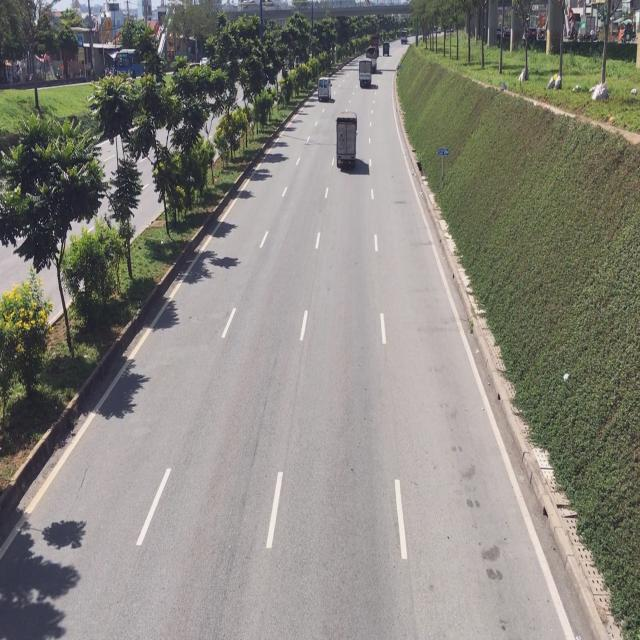bus: (318, 74, 330, 103)
truck: (336, 110, 359, 173), (358, 59, 374, 89)
